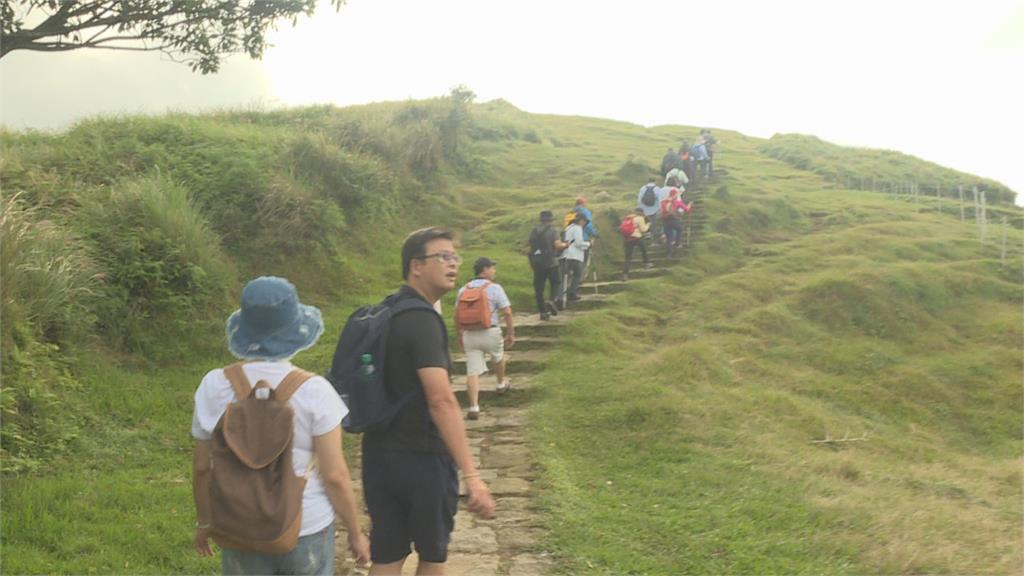people: (335, 231, 493, 576), (195, 278, 354, 576), (461, 257, 513, 418), (528, 211, 561, 318), (561, 221, 596, 299), (573, 201, 600, 265), (625, 211, 657, 262), (657, 195, 689, 244), (638, 182, 658, 223)
